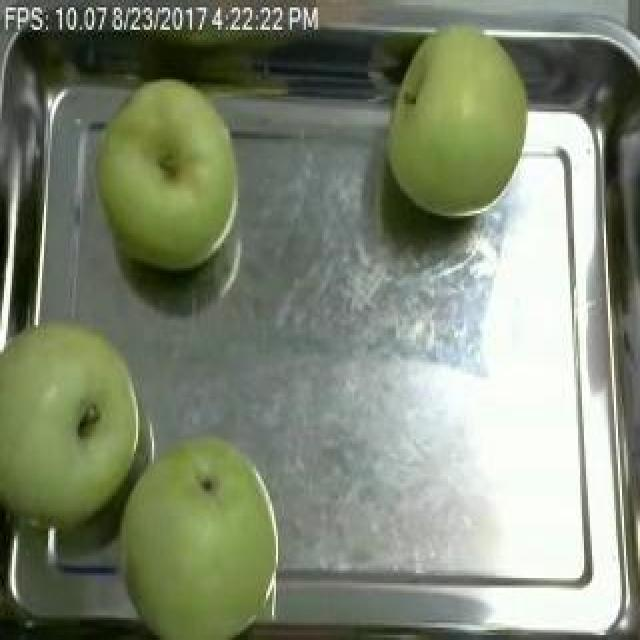Rotten Apple: (120, 436, 280, 640), (94, 74, 250, 278), (382, 25, 532, 216), (0, 328, 138, 528)
